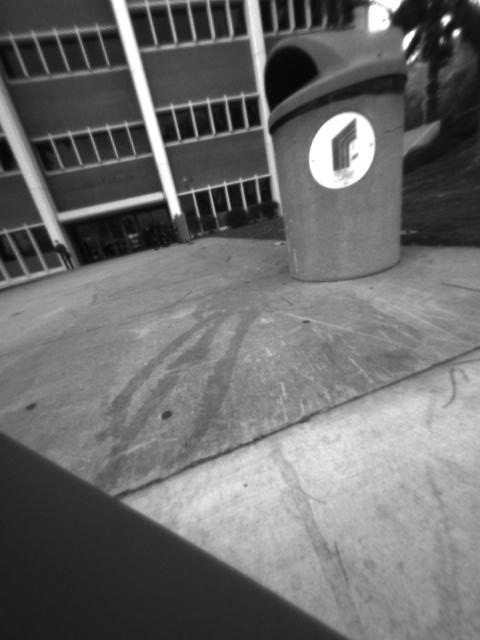trashcan: (261, 31, 410, 276)
